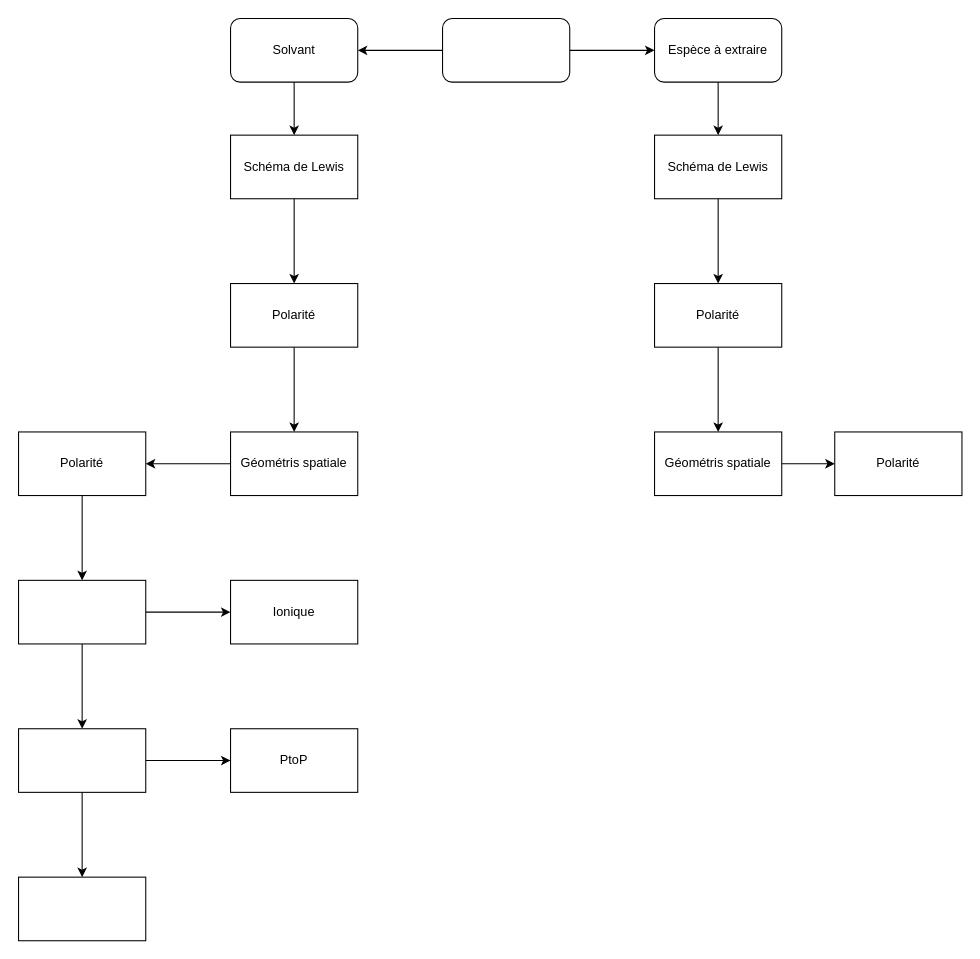
This 980x959 diagram has some shape labels left out. The shapes that lost their labels are listed below. From the top down, each one's centre as x and y in pixels, then its label:
At (505,49): "Extraire une espèce chimique".
At (81,611): "Interactions intermoléculaires possibles".
At (81,760): "van der Waals".
